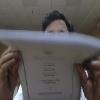notebook: (0, 28, 99, 99)
